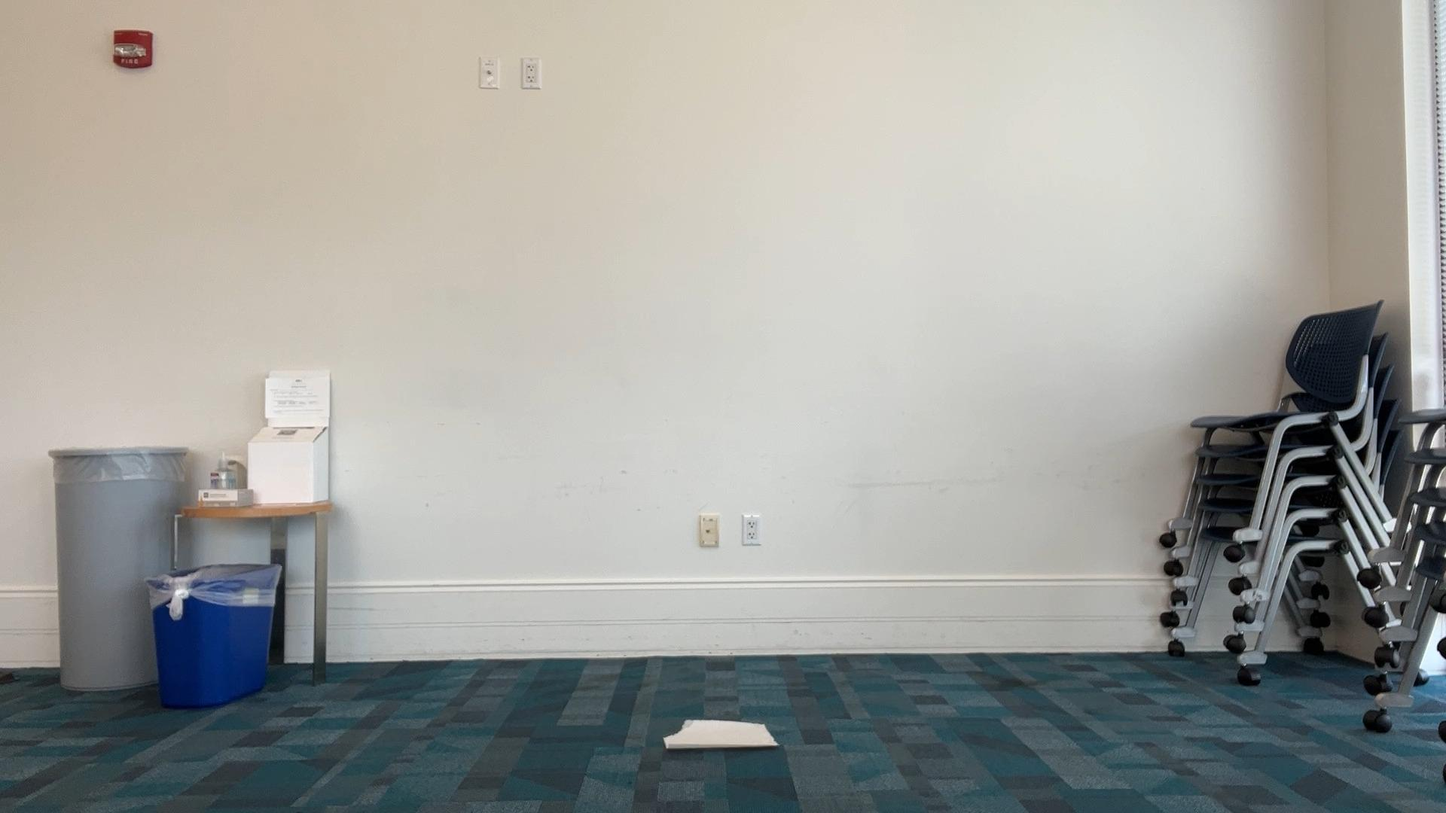Trash: (657, 706, 788, 767)
